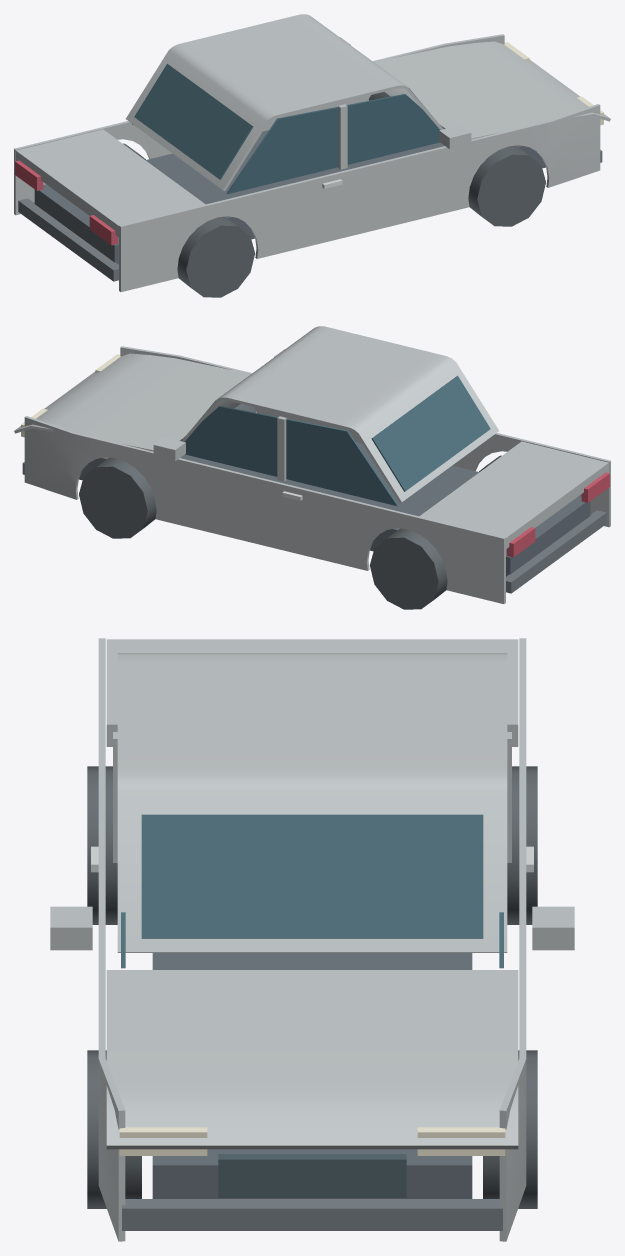
The picture shows the model from 3 angles, top to bottom: view 1: azimuth 30°, elevation 25°; view 2: azimuth 150°, elevation 25°; view 3: azimuth 270°, elevation 25°; orthographic projection. The views are drawn at different scales.
Parts seen in each view (by area): view 1: arched_fender_right, bent_hood, rear_roof_fold, side_glass_right, rear_deck, front_roof_fold, rear_windshield, underbody, wheel_rear_right, wheel_front_right, arched_fender_left, rear_bumper (+4 smaller); view 2: arched_fender_left, bent_hood, rear_roof_fold, side_glass_left, rear_deck, front_roof_fold, rear_windshield, underbody, wheel_rear_left, wheel_front_left, arched_fender_right, rear_bumper (+4 smaller); view 3: bent_hood, front_roof_fold, front_windshield, rear_roof_fold, underbody, front_bumper, front_grille, rear_deck, arched_fender_left, arched_fender_right, wheel_rear_left, wheel_rear_right (+6 smaller).
Boxes of the visible parts, x1=… form: arched_fender_right: x1=119, y1=104, x2=600, y2=291; bent_hood: x1=374, y1=41, x2=610, y2=139; rear_roof_fold: x1=126, y1=29, x2=336, y2=190; side_glass_right: x1=226, y1=94, x2=444, y2=194; rear_deck: x1=16, y1=129, x2=205, y2=236; front_roof_fold: x1=239, y1=14, x2=443, y2=129; rear_windshield: x1=134, y1=63, x2=253, y2=179; underbody: x1=34, y1=130, x2=545, y2=264; wheel_rear_right: x1=177, y1=216, x2=255, y2=297; wheel_front_right: x1=468, y1=145, x2=545, y2=226; arched_fender_left: x1=14, y1=34, x2=504, y2=215; rear_bumper: x1=18, y1=198, x2=118, y2=281; arched_fender_left: x1=24, y1=416, x2=505, y2=603; bent_hood: x1=14, y1=353, x2=250, y2=451; rear_roof_fold: x1=288, y1=341, x2=498, y2=502; side_glass_left: x1=180, y1=406, x2=398, y2=506; rear_deck: x1=419, y1=441, x2=608, y2=548; front_roof_fold: x1=181, y1=326, x2=385, y2=441; rear_windshield: x1=371, y1=375, x2=490, y2=491; underbody: x1=79, y1=442, x2=590, y2=576; wheel_rear_left: x1=369, y1=528, x2=447, y2=609; wheel_front_left: x1=79, y1=457, x2=156, y2=538; arched_fender_right: x1=120, y1=346, x2=610, y2=527; rear_bumper: x1=506, y1=510, x2=606, y2=593; bent_hood: x1=106, y1=970, x2=518, y2=1149; front_roof_fold: x1=117, y1=715, x2=507, y2=952; front_windshield: x1=141, y1=814, x2=483, y2=938; rear_roof_fold: x1=117, y1=653, x2=507, y2=715; underbody: x1=152, y1=953, x2=472, y2=1198; front_bumper: x1=122, y1=1199, x2=502, y2=1230; front_grille: x1=218, y1=1154, x2=406, y2=1197; rear_deck: x1=106, y1=639, x2=518, y2=746; arched_fender_left: x1=499, y1=638, x2=526, y2=1241; arched_fender_right: x1=98, y1=638, x2=125, y2=1241; wheel_rear_left: x1=507, y1=766, x2=537, y2=924; wheel_rear_right: x1=87, y1=766, x2=117, y2=924.
Bounding box in the file's own units: 4.61 × 1.43 × 2.11.
